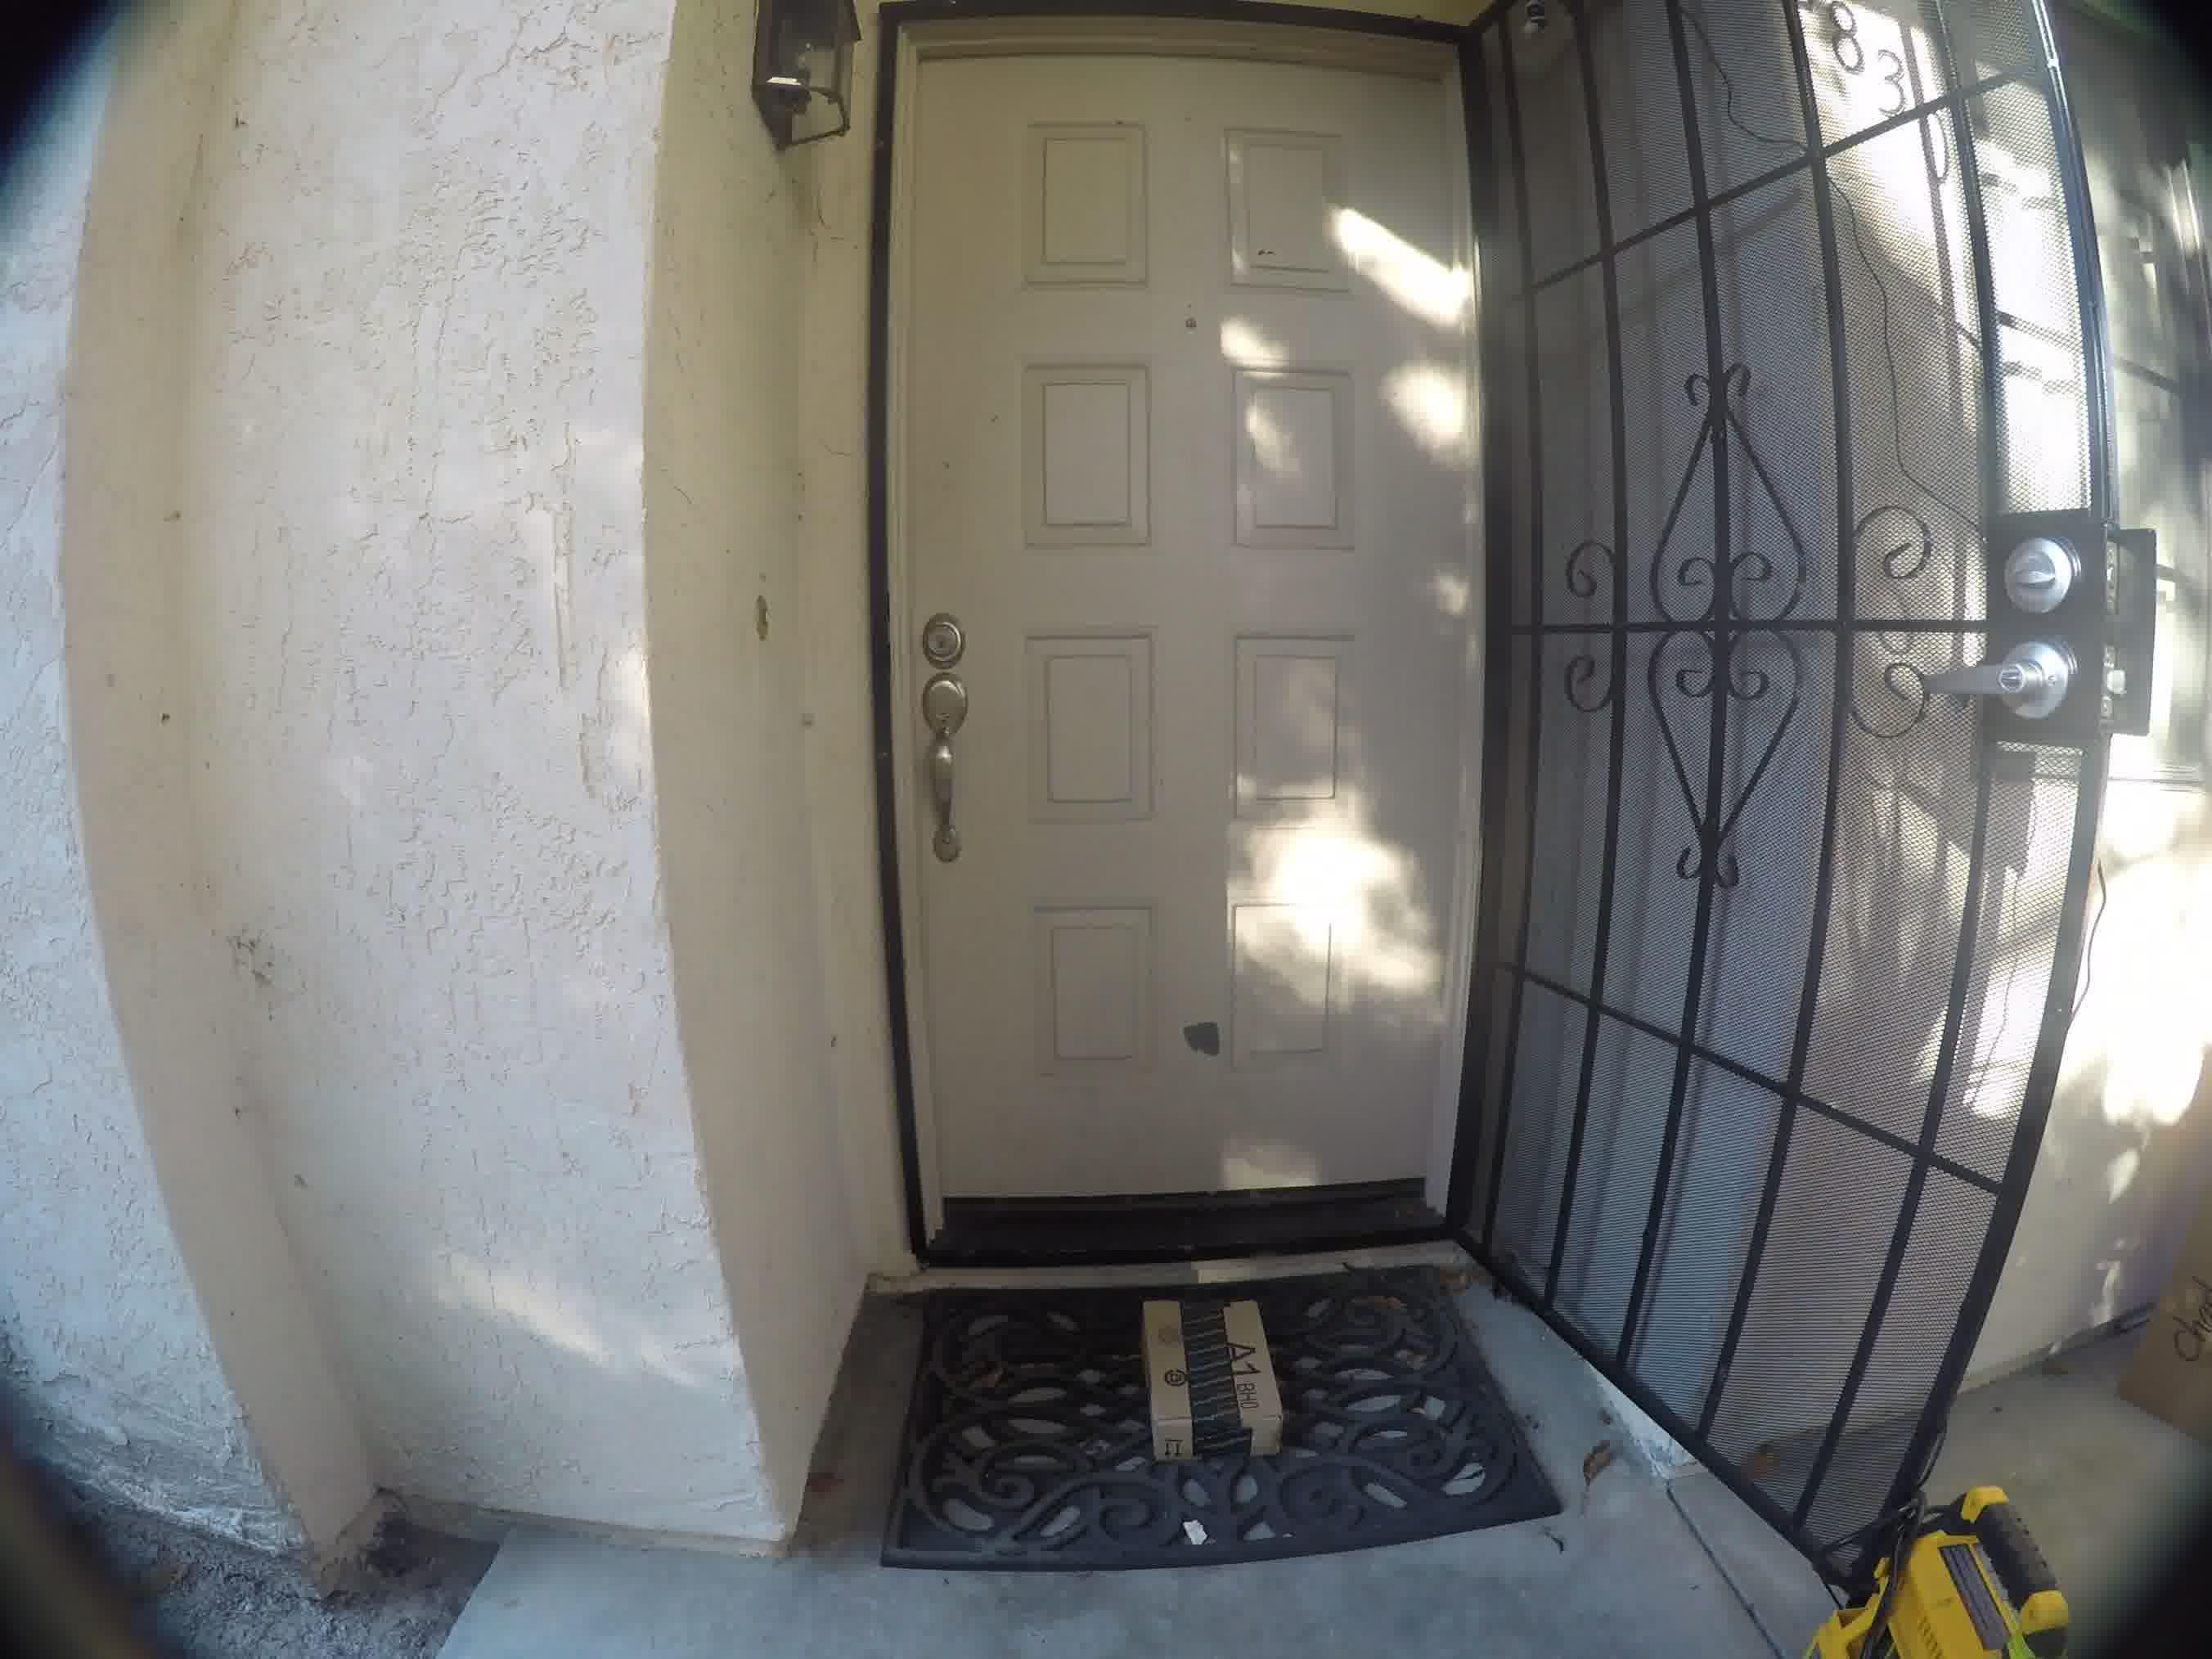box: (1122, 1283, 1294, 1460)
